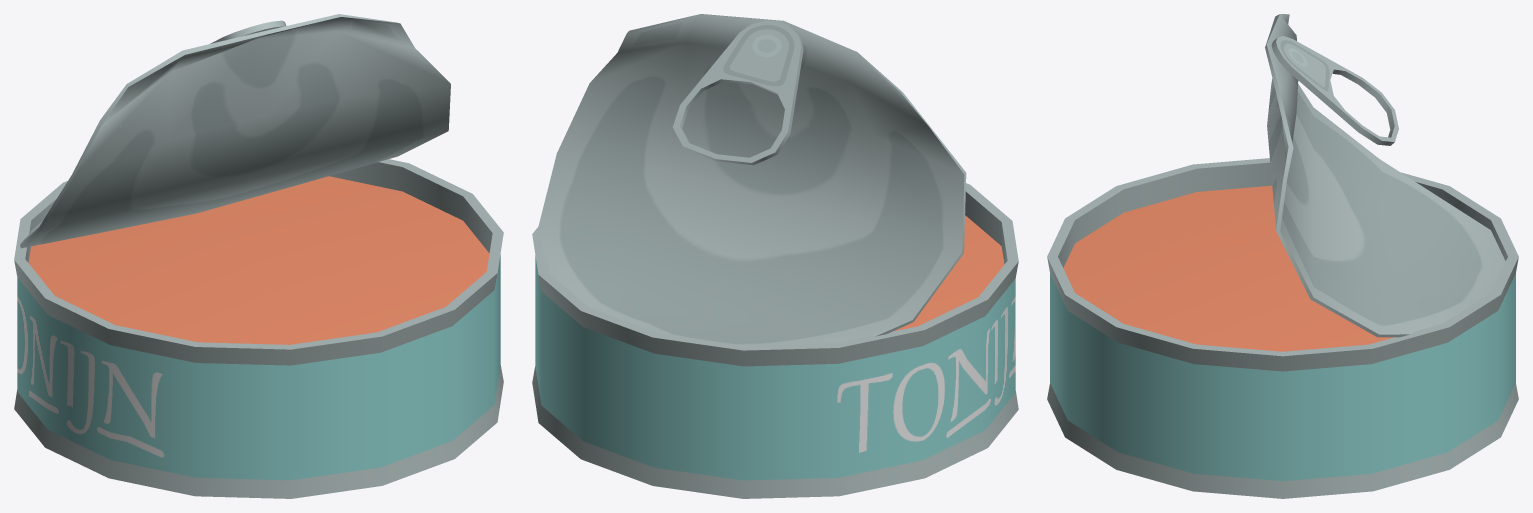
Rendered from Tuna Can.fbx.
3 views of the same model, side by side, from view 1: azimuth 30°, elevation 25°; view 2: azimuth 150°, elevation 25°; view 3: azimuth 270°, elevation 25° (orthographic). The views are drawn at different scales.
Parts seen in each view (by area): view 1: pCylinder3; view 2: pCylinder3; view 3: pCylinder3.
Boxes of the visible parts, left/top/right/bottom form: pCylinder3: left=14, top=14, right=503, bottom=498; pCylinder3: left=532, top=14, right=1018, bottom=498; pCylinder3: left=1047, top=14, right=1518, bottom=498.
Bounding box in the file's own units: 12.41 × 10.38 × 12.41.
